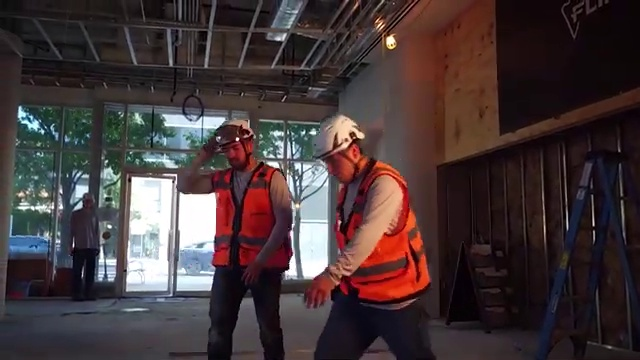helmet: (307, 108, 371, 163), (212, 116, 268, 148)
jacket: (328, 156, 433, 302), (211, 166, 294, 272)
